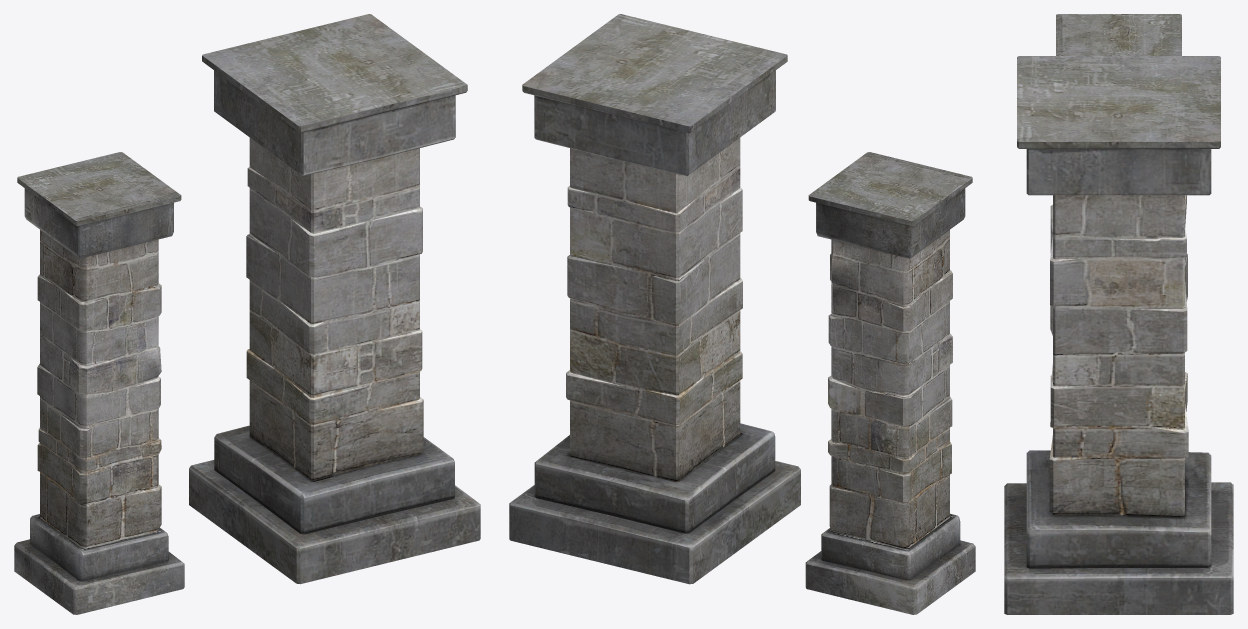
The model's file is stone_pillar.obj.
3 renders of one model, left to right at view 1: azimuth 30°, elevation 25°; view 2: azimuth 150°, elevation 25°; view 3: azimuth 270°, elevation 25°, orthographic. The views are drawn at different scales.
Visible parts, largest first — view 1: stone_pillar_01, mesh0; view 2: stone_pillar_01, mesh0; view 3: stone_pillar_01, mesh0.
Part boxes in pixels (x1,y1,x2,y2): stone_pillar_01: (189, 14, 480, 584); mesh0: (14, 152, 184, 614); stone_pillar_01: (509, 14, 800, 584); mesh0: (805, 152, 975, 614); stone_pillar_01: (1004, 56, 1233, 614); mesh0: (1056, 14, 1181, 55).
Bounding box in the file's own units: 96.14 × 108 × 48.
